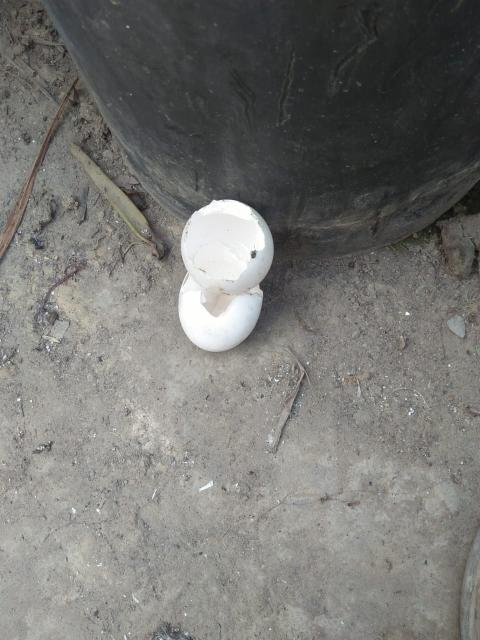Roto: (176, 198, 277, 293), (176, 271, 266, 353)
